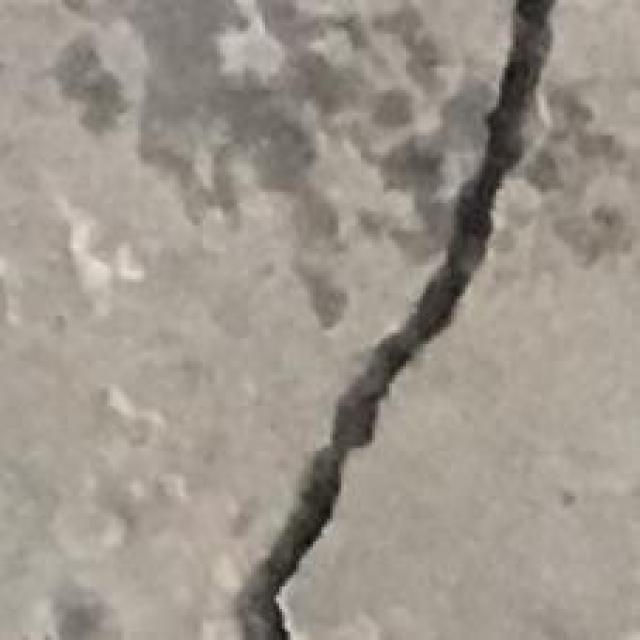Crack: (214, 3, 564, 640)
